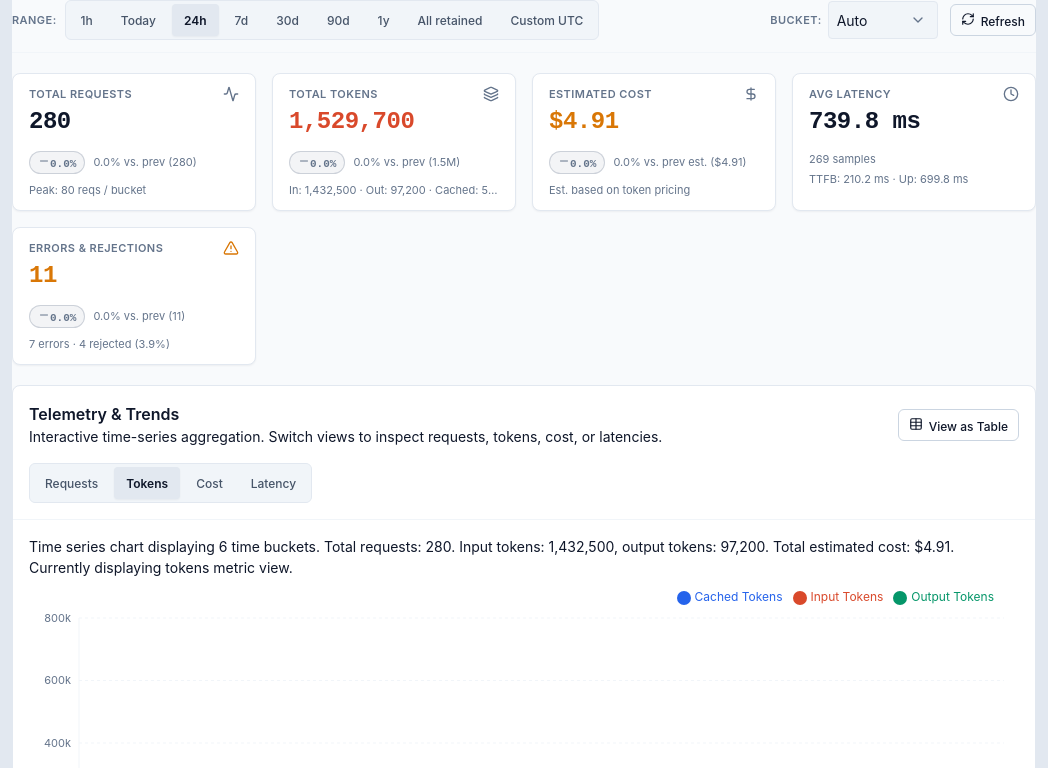
Test case: T169 UsagePage Component and Lifecycle › renders only the selected chart and switches between metric tabs
This screenshot has width=1048, height=768.
# Switch to Requests metric view on primary chart card
Click the button "Requests". click: (72, 483)
box: x1=33 y1=467 x2=110 y2=499
(page scrolled)
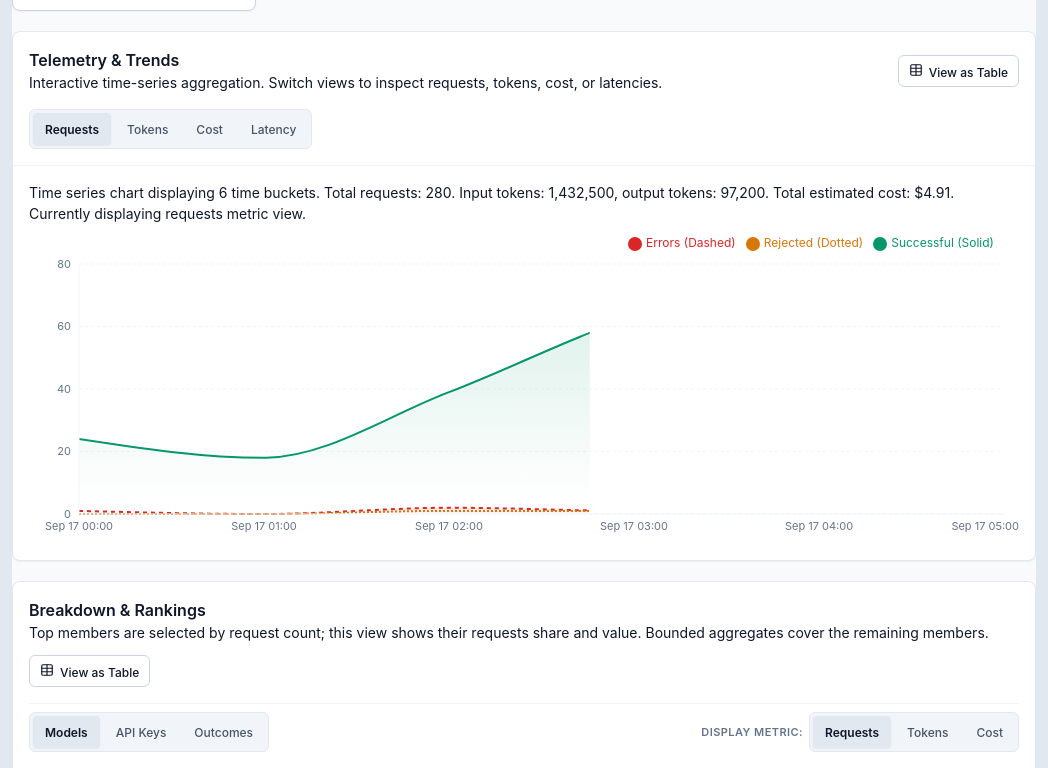
Now the element with test id "requests-chart" is shown, box x1=29 y1=224 x2=1019 y2=544
